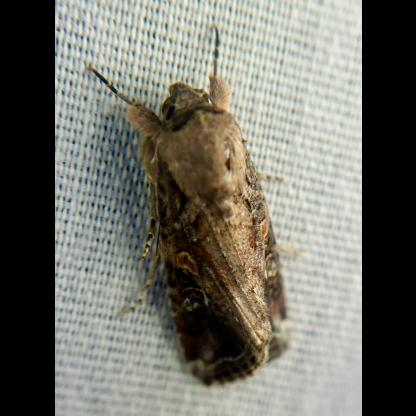Fall Armyworm Moth: (84, 21, 306, 393)
